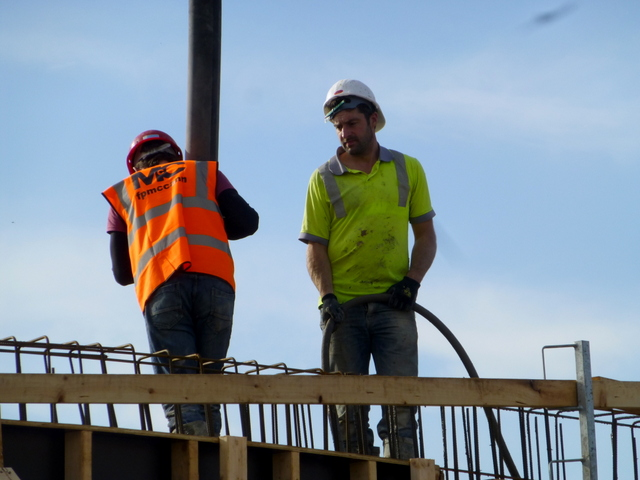Hard Hat: (318, 79, 387, 158), (127, 128, 182, 175)
Person: (109, 134, 259, 437), (306, 82, 421, 461)
Vest: (122, 152, 238, 313)
